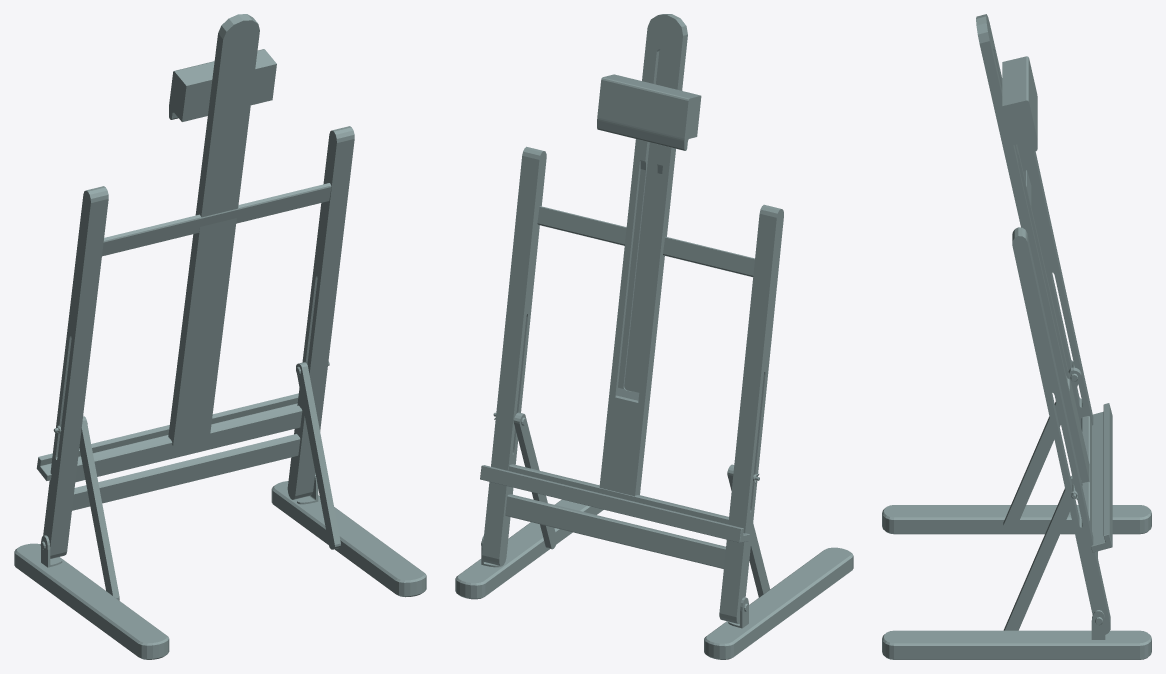
The model's file is Big_easel.fbx.
3 renders of one model, left to right at view 1: azimuth 30°, elevation 25°; view 2: azimuth 150°, elevation 25°; view 3: azimuth 270°, elevation 25°, orthographic. The views are drawn at different scales.
Visible parts, largest first — view 1: polySurface13; view 2: polySurface13; view 3: polySurface13.
Boxes of the visible parts, x1,y1,x2,y2 form: polySurface13: [14, 14, 426, 659]; polySurface13: [455, 14, 853, 659]; polySurface13: [882, 14, 1151, 659].
Bounding box in the file's own units: 1.17 × 2.24 × 0.9509.
